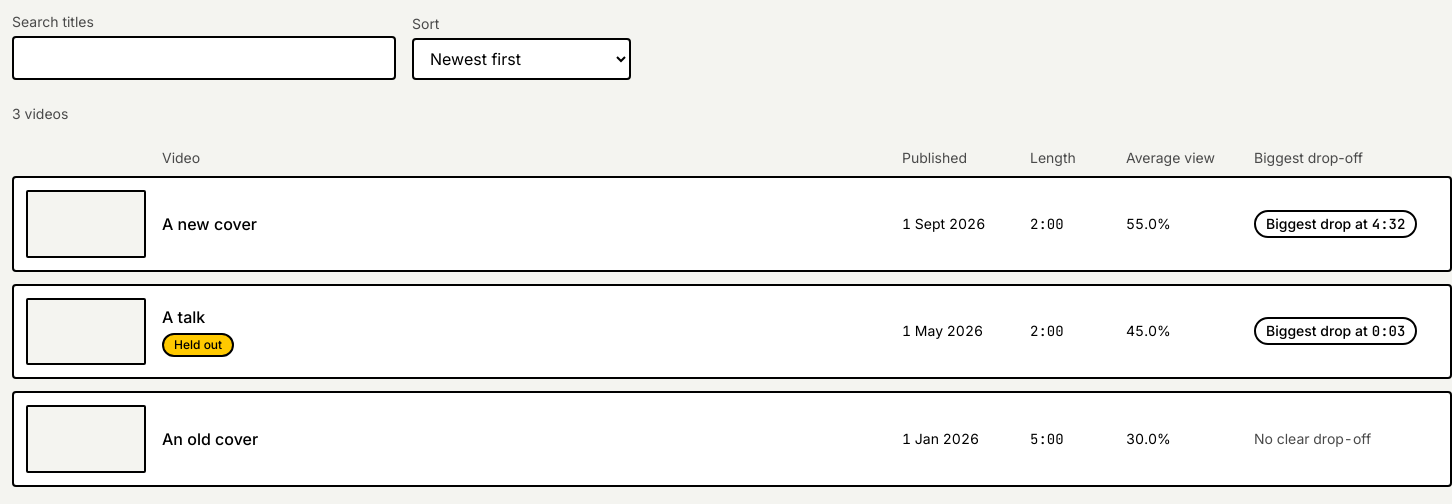
Test: VideoList › sorts and searches on the page
Select "Most watched through" in the dropdown labelled "Sort" at (522, 59), box [412,38,631,80]
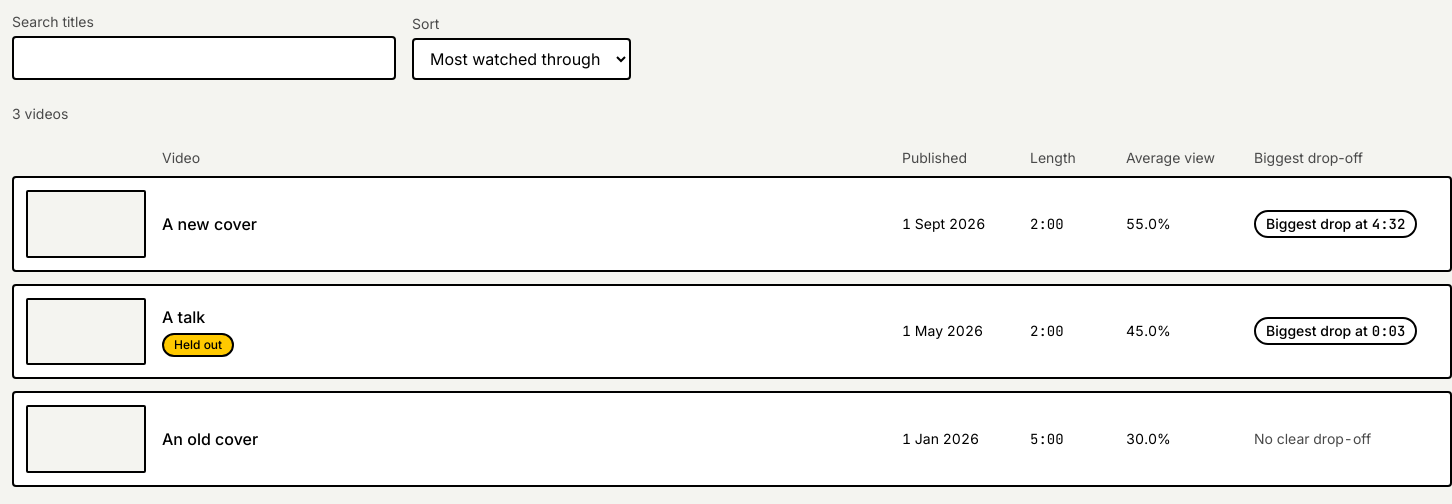
Select "Biggest drop-off" in the dropdown labelled "Sort" at (522, 59), box [412,38,631,80]
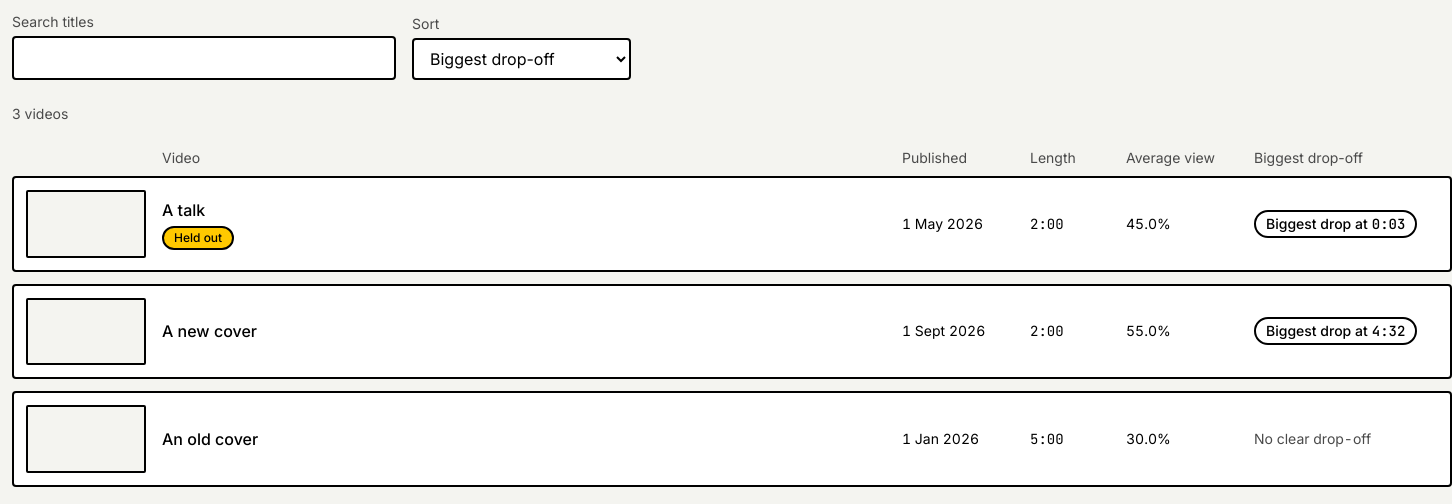
Select "Longest" in the dropdown labelled "Sort" at (522, 59), box [412,38,631,80]
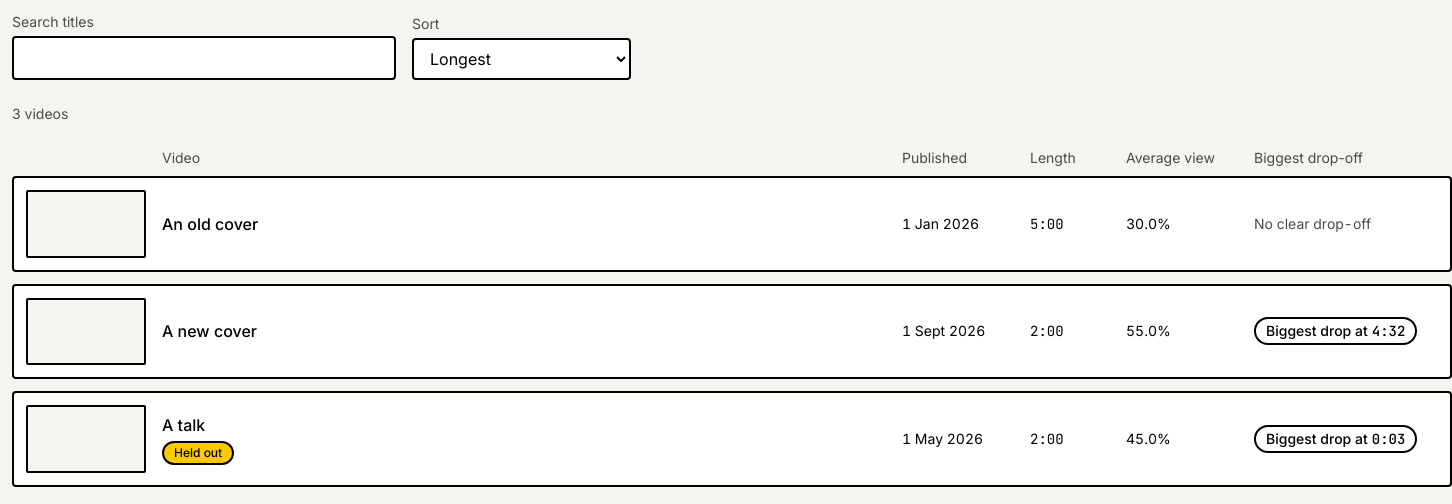
Expected: the text "An old cover" is shown, [162,214,258,234]
Type "COVER" into the search field labelled "Search titles" at (204, 58), box [12,36,396,80]
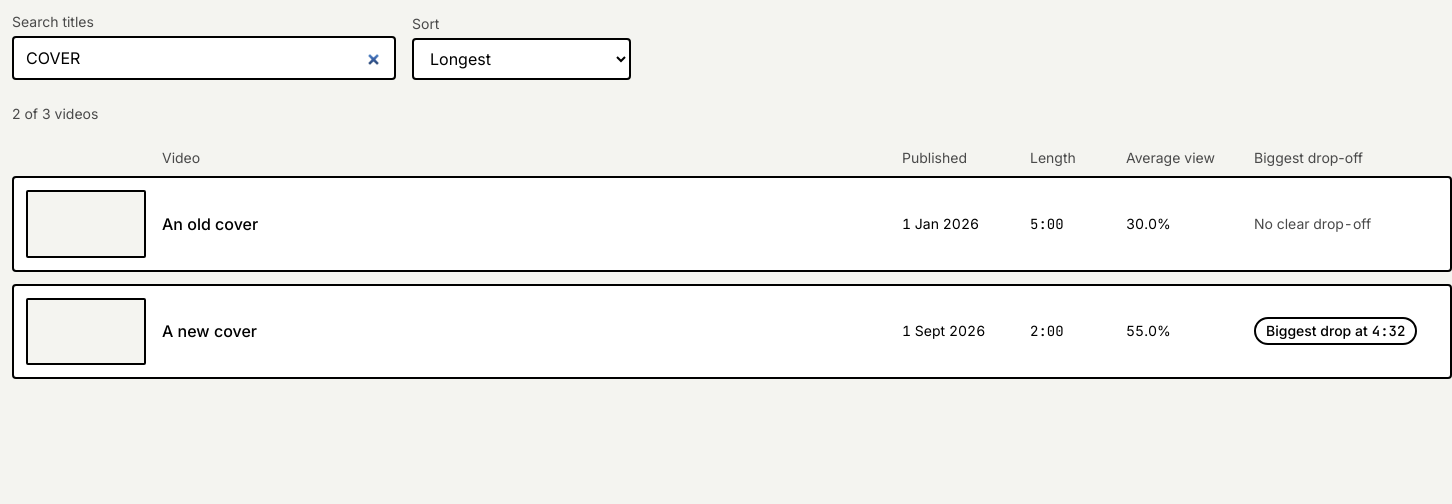
Result: the text "2 of 3 videos" is shown at [12,105,98,122]
Replace the text in the search field labelled "Search titles" with "zzz" at (204, 58), box [12,36,396,80]
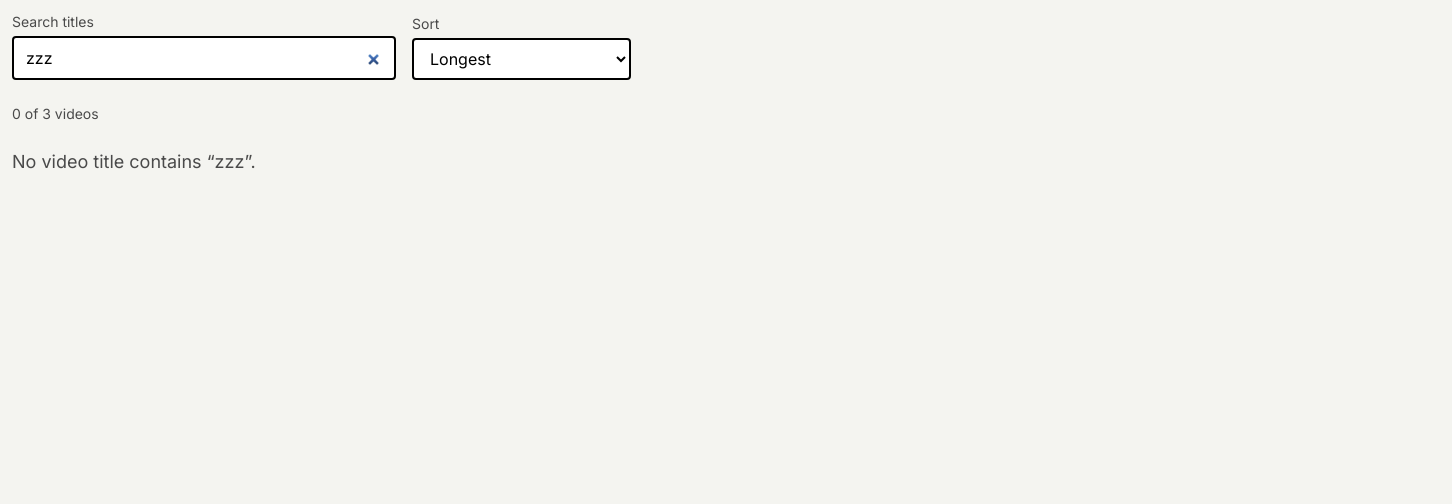
Result: the text "No video title contains “zzz”." is shown at [12,151,256,172]
